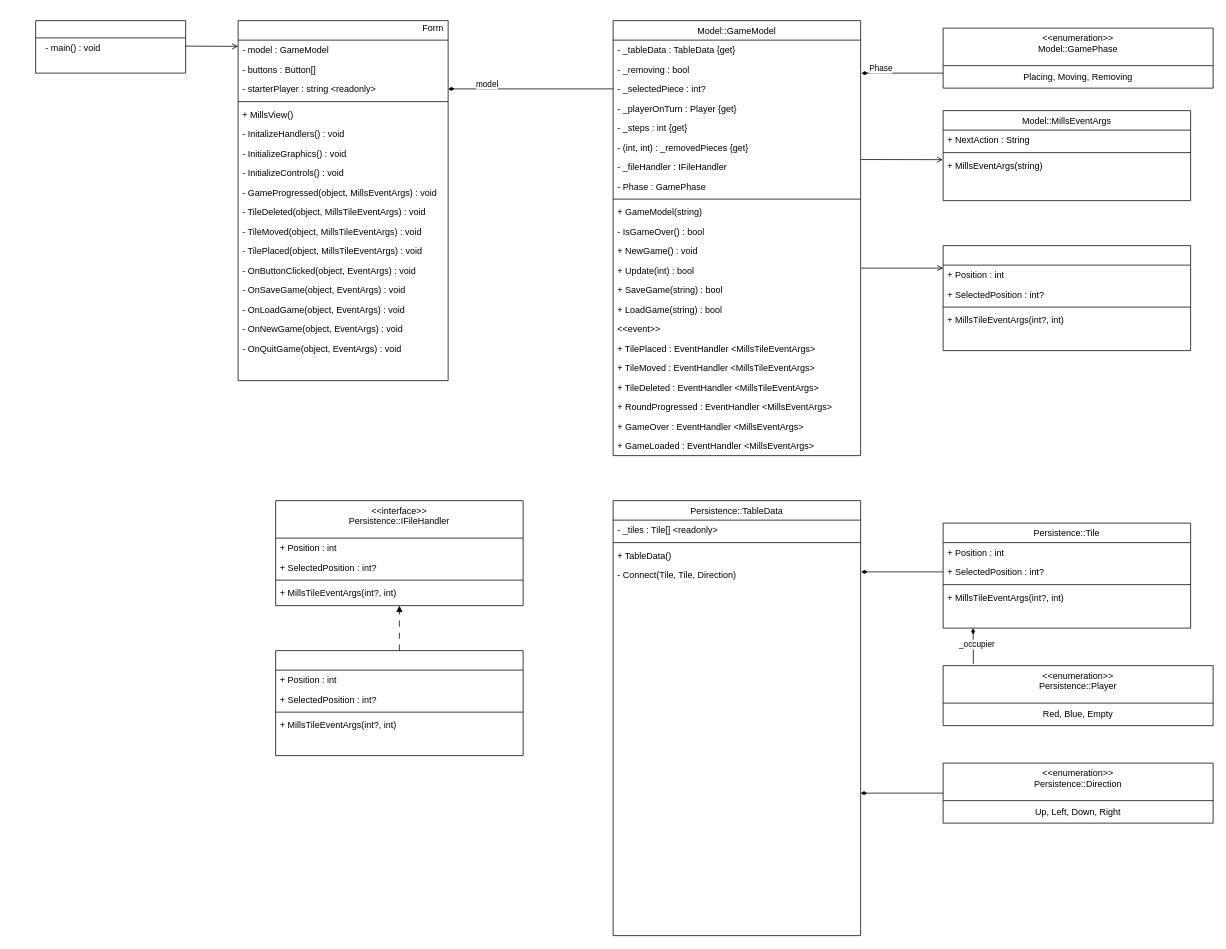
The diagram is 1226 pixels wide and 949 high, and some of its shapes have lost their labels. The shapes that lost their labels are listed below. From the top down, each one's box as (x1, y1, x2, y2) in pixels, then its label:
(35, 20, 186, 73): Program
(237, 20, 448, 381): View::MillsView
(942, 245, 1191, 351): Model::MillsTileEventArgs
(275, 650, 523, 756): Persistence::MillsFileHandler
